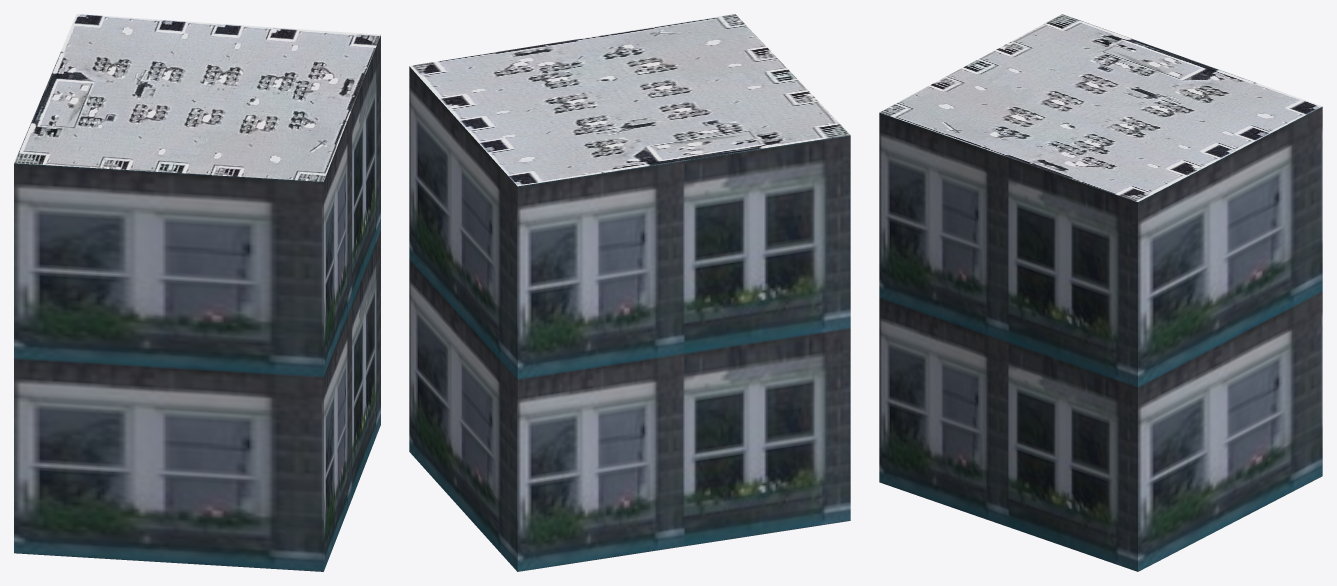
The model's file is ResTex__2192.fbx.
3 renders of one model, left to right at view 1: azimuth 30°, elevation 25°; view 2: azimuth 150°, elevation 25°; view 3: azimuth 270°, elevation 25°, orthographic. The views are drawn at different scales.
Visible parts, largest first — view 1: CityEngineMaterial_11_m, CityEngineMaterial_8_m; view 2: CityEngineMaterial_11_m, CityEngineMaterial_8_m; view 3: CityEngineMaterial_11_m, CityEngineMaterial_8_m.
Part boxes in pixels (x1,y1,x2,y2): CityEngineMaterial_11_m: (14, 35, 380, 571); CityEngineMaterial_8_m: (14, 14, 380, 181); CityEngineMaterial_11_m: (409, 66, 850, 571); CityEngineMaterial_8_m: (409, 14, 850, 186); CityEngineMaterial_11_m: (879, 106, 1322, 571); CityEngineMaterial_8_m: (880, 14, 1322, 201).
Bounding box in the file's own units: 6.55 × 6 × 6.52.
2 materials, 2 textured.
